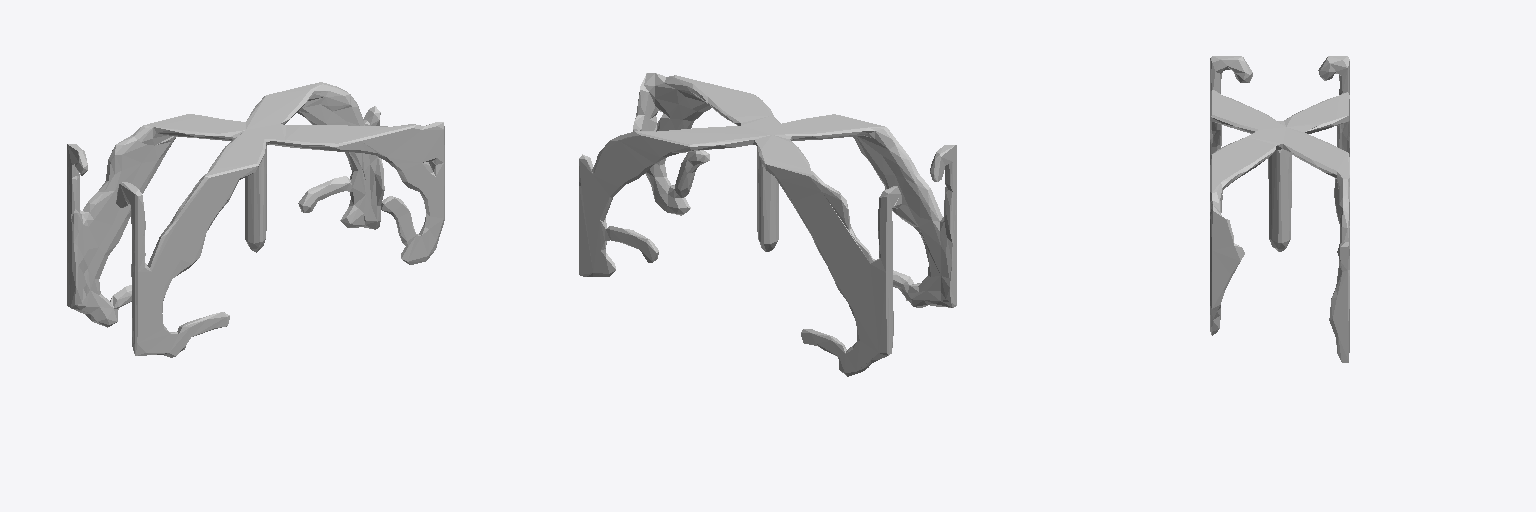
The picture shows the model from 3 angles: view 1: azimuth 30°, elevation 25°; view 2: azimuth 150°, elevation 25°; view 3: azimuth 270°, elevation 25°; orthographic projection.
Parts seen in each view (by area): view 1: Liquid_Domain; view 2: Liquid_Domain; view 3: Liquid_Domain.
Part boxes in pixels (bbox=[...]): Liquid_Domain: bbox=[67, 82, 444, 357]; Liquid_Domain: bbox=[579, 73, 956, 376]; Liquid_Domain: bbox=[1210, 56, 1349, 362].
Size of the model in its own units: 884 by 683 by 344.